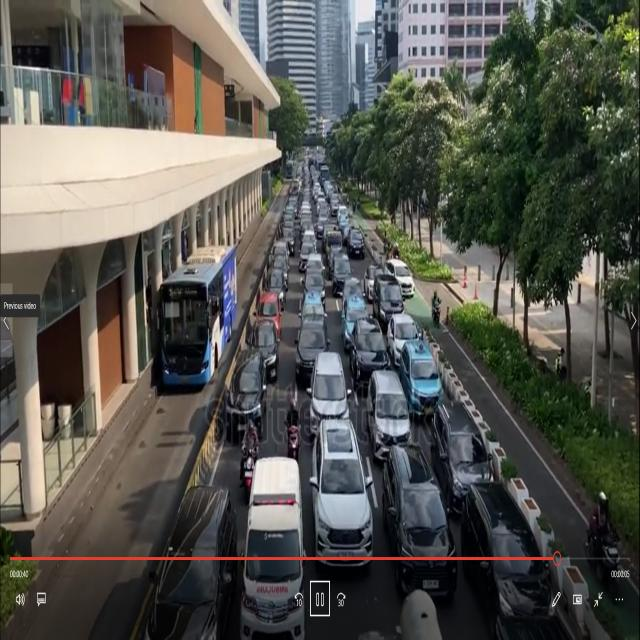Ambulance: (242, 455, 310, 640)
